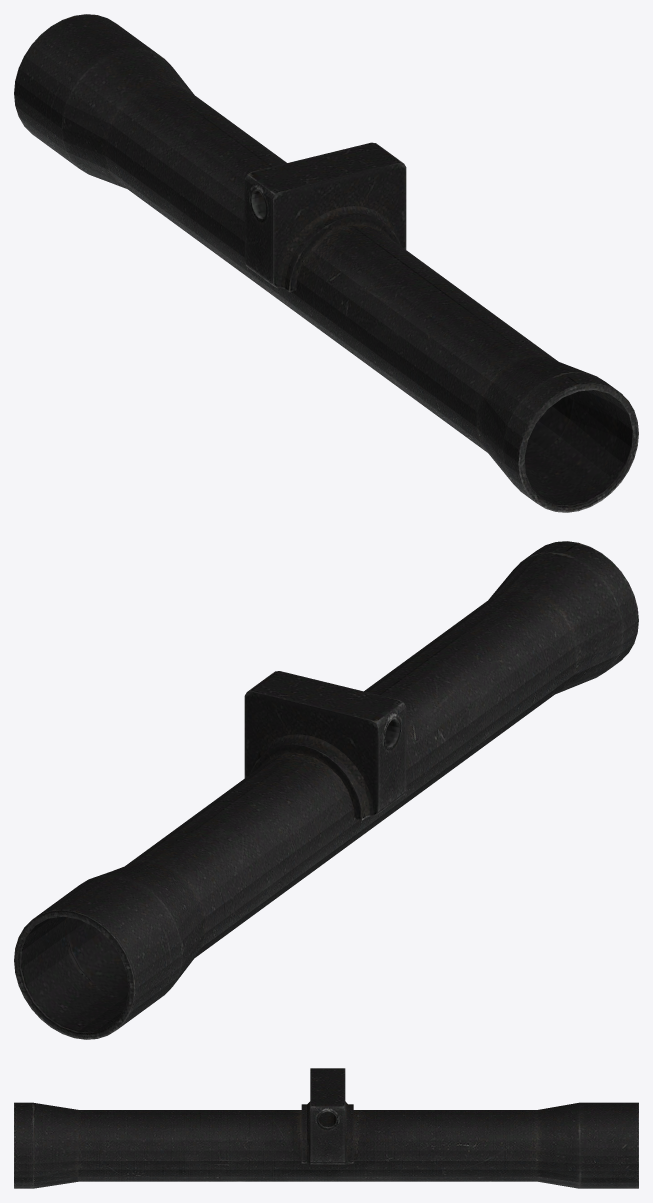
3 renders of one model, top to bottom at view 1: azimuth 30°, elevation 25°; view 2: azimuth 150°, elevation 25°; view 3: azimuth 270°, elevation 25°, orthographic. The views are drawn at different scales.
Visible parts, largest first — view 1: TW_628b8d83717774443b15e248_PZ_Import; view 2: TW_628b8d83717774443b15e248_PZ_Import; view 3: TW_628b8d83717774443b15e248_PZ_Import.
Boxes of the visible parts, x1=… form: TW_628b8d83717774443b15e248_PZ_Import: x1=14, y1=14, x2=638, y2=512; TW_628b8d83717774443b15e248_PZ_Import: x1=14, y1=541, x2=638, y2=1039; TW_628b8d83717774443b15e248_PZ_Import: x1=14, y1=1068, x2=638, y2=1188.
Bounding box in the file's own units: 0.0127 × 0.0832 × 0.0144.
1 material, 1 textured.
